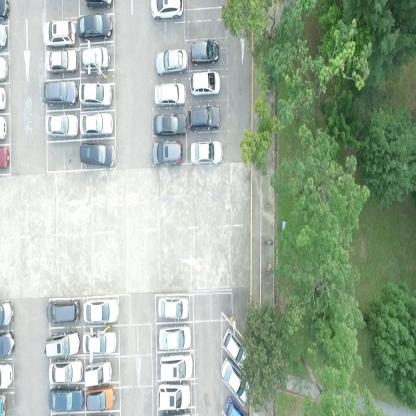car: (219, 360, 250, 404), (43, 329, 81, 359), (221, 326, 247, 368), (42, 78, 78, 107), (154, 46, 188, 76), (158, 352, 192, 382), (46, 294, 81, 323), (155, 382, 191, 410), (76, 13, 114, 39), (151, 138, 184, 167), (80, 142, 116, 168), (82, 298, 118, 324), (151, 110, 186, 136), (49, 384, 84, 410), (49, 357, 84, 383), (188, 138, 222, 164), (79, 110, 114, 135), (43, 19, 76, 45), (187, 106, 221, 131), (44, 113, 78, 138), (158, 324, 192, 349), (78, 83, 112, 107), (190, 70, 221, 96), (149, 0, 184, 23), (46, 48, 78, 73), (84, 330, 118, 353), (85, 384, 115, 410), (157, 296, 189, 319), (85, 359, 113, 385), (190, 40, 220, 64), (82, 47, 112, 71), (154, 84, 186, 106), (0, 327, 16, 358), (0, 360, 15, 390), (84, 0, 116, 13), (224, 397, 246, 415), (0, 298, 14, 326), (0, 146, 11, 174), (0, 114, 11, 141), (0, 55, 9, 80), (0, 86, 9, 109), (0, 0, 8, 21), (0, 22, 7, 46)
